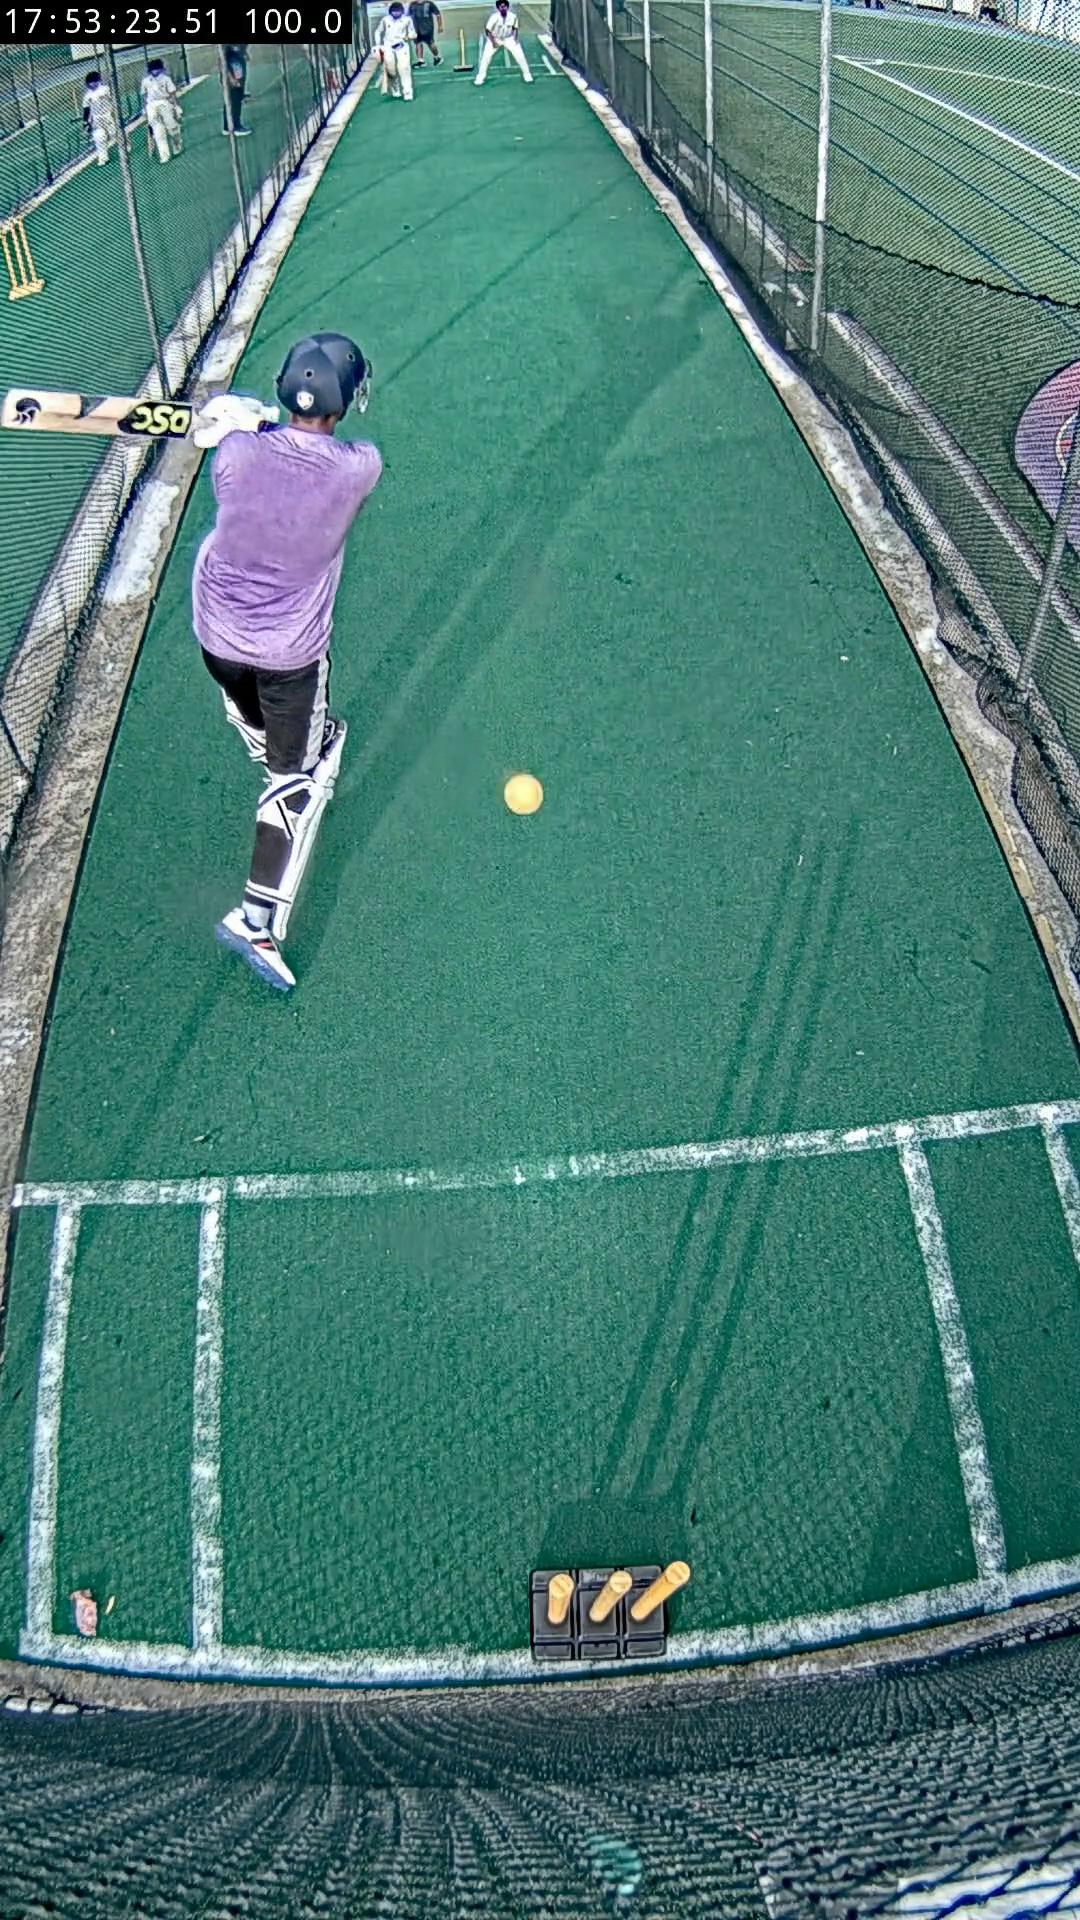ball: (502, 773, 543, 812)
bat: (0, 390, 195, 439)
gloves: (191, 394, 277, 446)
helmet: (277, 334, 372, 417)
pads: (270, 715, 348, 938)
stumps: (529, 1560, 690, 1662)
